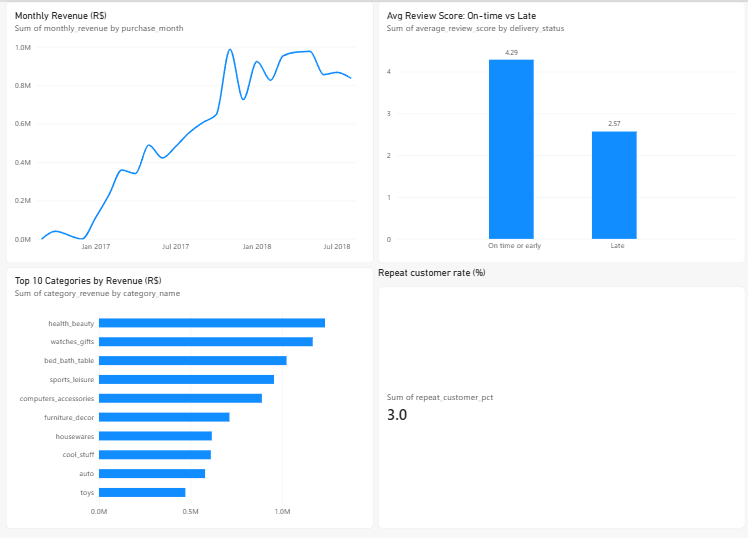

This screenshot's page, from the dashboard's own definition file:
{"tool":"powerbi","page":{"name":"Page 1","canvas":[1920,1080],"ordinal":0},"visuals":[{"type":"lineChart","title":"Monthly Revenue (R$)","fields":{"Category":["monthly_revenue.purchase_month"],"Y":["Sum(monthly_revenue.monthly_revenue)"]},"box":[11.3,0,694.5,493.2],"z":0},{"type":"barChart","title":"Top 10 Categories by Revenue (R$)","fields":{"Category":["category_pareto.category_name"],"Y":["Sum(category_pareto.category_revenue)"]},"box":[11,503,694,493],"z":1},{"type":"clusteredColumnChart","title":"Avg Review Score: On-time vs Late","fields":{"Category":["late_delivery_reviews.delivery_status"],"Y":["Sum(late_delivery_reviews.average_review_score)"]},"box":[715,0,694,493],"z":2},{"type":"cardVisual","title":"Repeat customer rate (%)","fields":{"Data":["Sum(repeat_customers.repeat_customer_pct)"]},"box":[715,503,694,493],"z":3}]}

Visuals, with their boxes on the page's 1920x1080 design canvas (x1, y1, x2, y2). These are canvas units, not pixel positions in the 748x538 screenshot, which may show the page scaled, cropped or inside an application window:
"Monthly Revenue (R$)" lineChart: x1=11 y1=0 x2=706 y2=493
"Top 10 Categories by Revenue (R$)" barChart: x1=11 y1=503 x2=705 y2=996
"Avg Review Score: On-time vs Late" clusteredColumnChart: x1=715 y1=0 x2=1409 y2=493
"Repeat customer rate (%)" cardVisual: x1=715 y1=503 x2=1409 y2=996
